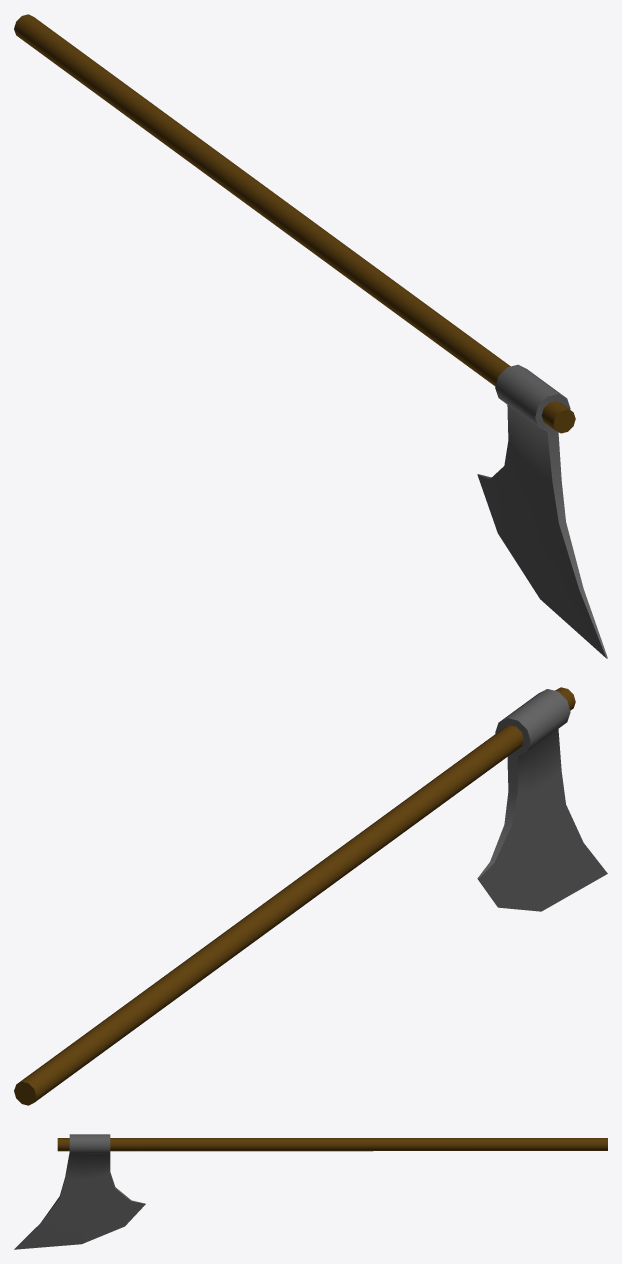
The model's file is Axe_2.fbx.
3 renders of one model, top to bottom at view 1: azimuth 30°, elevation 25°; view 2: azimuth 150°, elevation 25°; view 3: azimuth 270°, elevation 25°, orthographic. The views are drawn at different scales.
Parts seen in each view (by area): view 1: Axe_2H; view 2: Axe_2H; view 3: Axe_2H.
Part boxes in pixels (x1=…): Axe_2H: x1=14, y1=14, x2=607, y2=658; Axe_2H: x1=14, y1=687, x2=607, y2=1105; Axe_2H: x1=14, y1=1134, x2=607, y2=1249.
Bounding box in the file's own units: 4.76 × 28.56 × 135.
